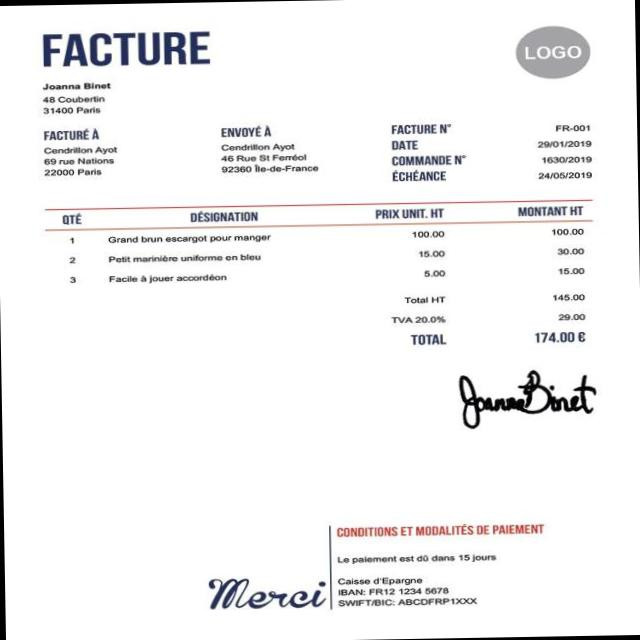customer_address: (41, 155, 120, 183)
customer_name: (41, 142, 118, 154)
due_date: (534, 165, 596, 183)
invoice_date: (532, 133, 594, 150)
invoice_number: (548, 116, 596, 134)
invoice_subtotal: (544, 287, 588, 304)
invoice_total: (526, 328, 592, 348)
item_description: (100, 230, 276, 288)
item_quantity: (58, 232, 84, 290)
item_total_price: (550, 223, 586, 277)
item_unit_price: (406, 226, 448, 280)
supplier_address: (35, 92, 109, 117)
supplier_name: (328, 520, 552, 540), (36, 76, 113, 94)
tax_amount: (552, 308, 590, 324)
tax_rate: (412, 310, 448, 328)
